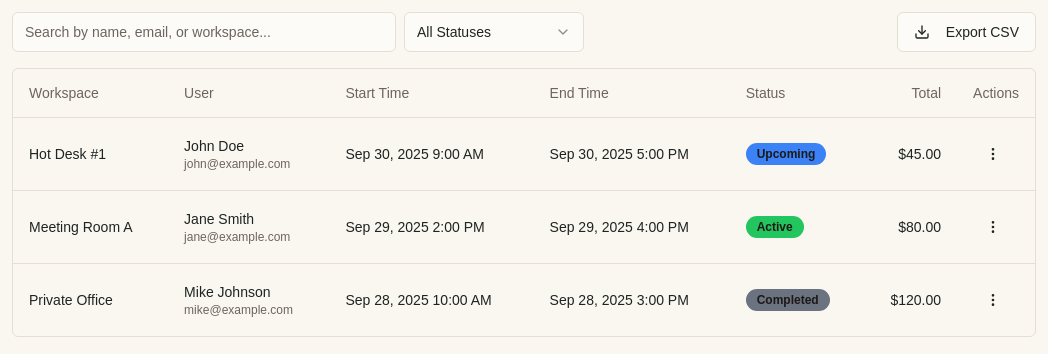
Test: BookingsList › filters bookings by search query
Type "John" into the field with placeholder "Search by name, email, or workspace...".
click(204, 32); type("John")  # box [12,12,396,52]
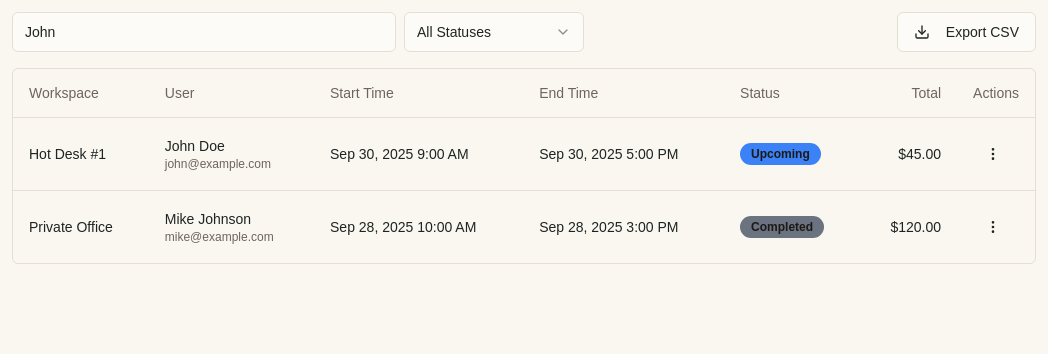
expect the text "John Doe" is shown: met, box [165,138,225,154]
expect the text "Jane Smith" is gone: met
